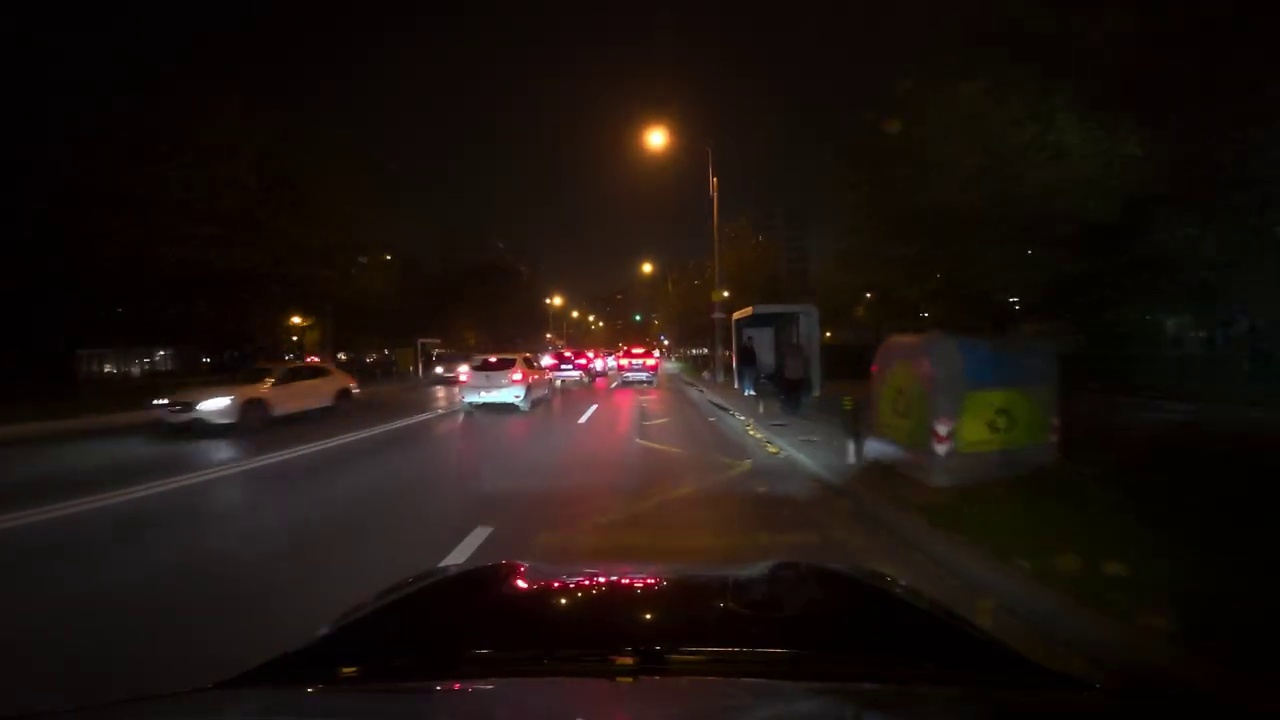acesa: (639, 123, 673, 156), (636, 258, 659, 280)
